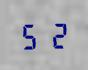five: (19, 20, 43, 50)
two: (44, 19, 68, 49)
